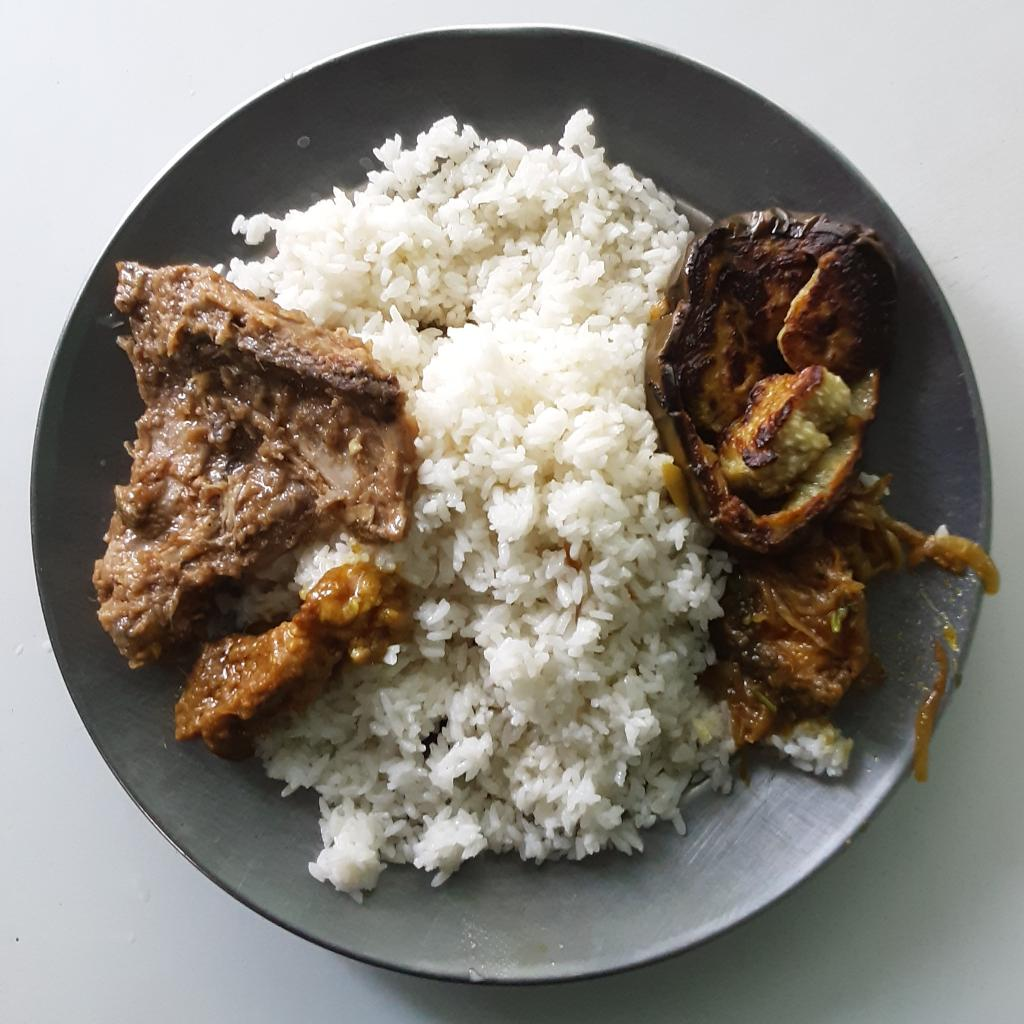begun-vaji: (645, 206, 900, 553)
cabbage: (710, 482, 998, 749)
chicken: (91, 262, 419, 675), (174, 561, 398, 764)
rice: (214, 110, 733, 899)
